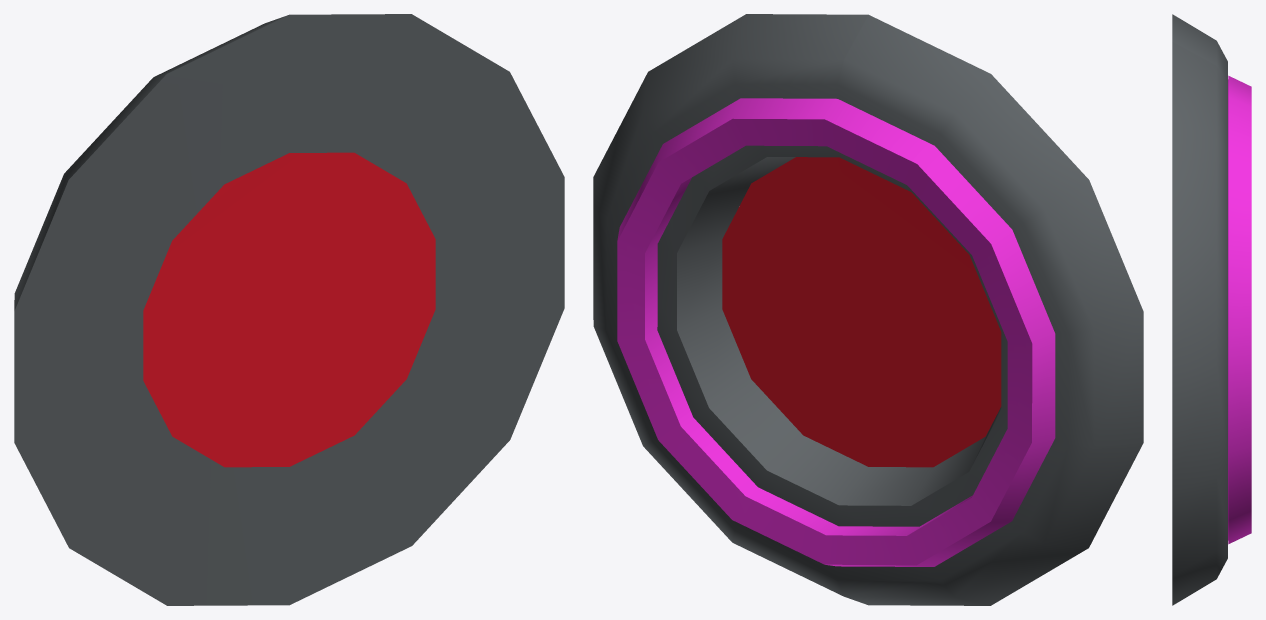
Rendered from bulletportal_exit.fbx.
3 renders of one model, left to right at view 1: azimuth 30°, elevation 25°; view 2: azimuth 150°, elevation 25°; view 3: azimuth 270°, elevation 25°, orthographic. The views are drawn at different scales.
Visible parts, largest first — view 1: bulletportal_exit; view 2: bulletportal_exit; view 3: bulletportal_exit.
Part boxes in pixels (x1,y1,x2,y2): bulletportal_exit: (14, 14, 564, 605); bulletportal_exit: (593, 14, 1143, 605); bulletportal_exit: (1172, 14, 1251, 605).
Size of the model in its own units: 0.9367 by 0.9606 by 0.1291.
